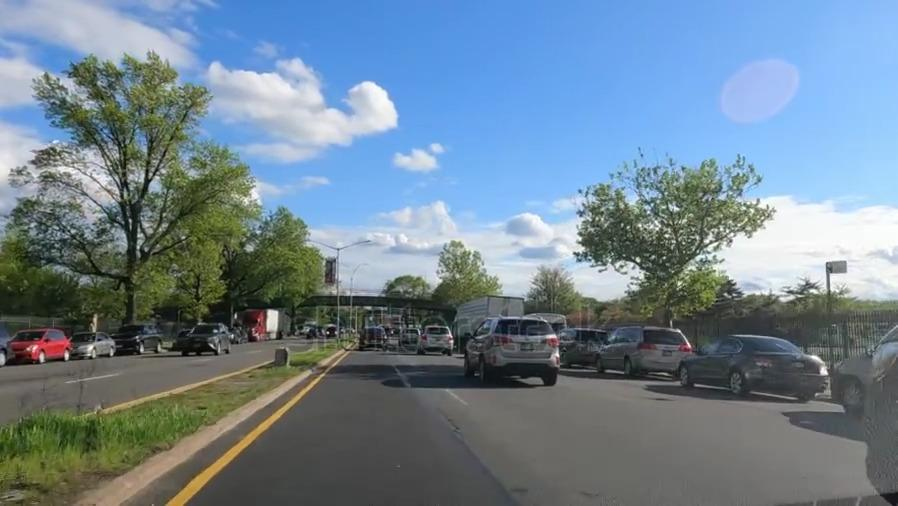car: (689, 339, 818, 391), (475, 322, 557, 381), (609, 326, 684, 372), (12, 327, 71, 363), (558, 328, 598, 362), (114, 324, 162, 351), (70, 331, 115, 358), (185, 323, 227, 351), (421, 327, 452, 353), (364, 327, 386, 349), (401, 327, 418, 343)
